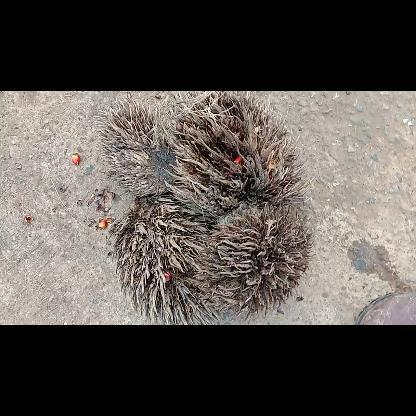Janjang kosong: (163, 91, 311, 223), (107, 196, 226, 324), (197, 204, 315, 324), (94, 97, 178, 194)
